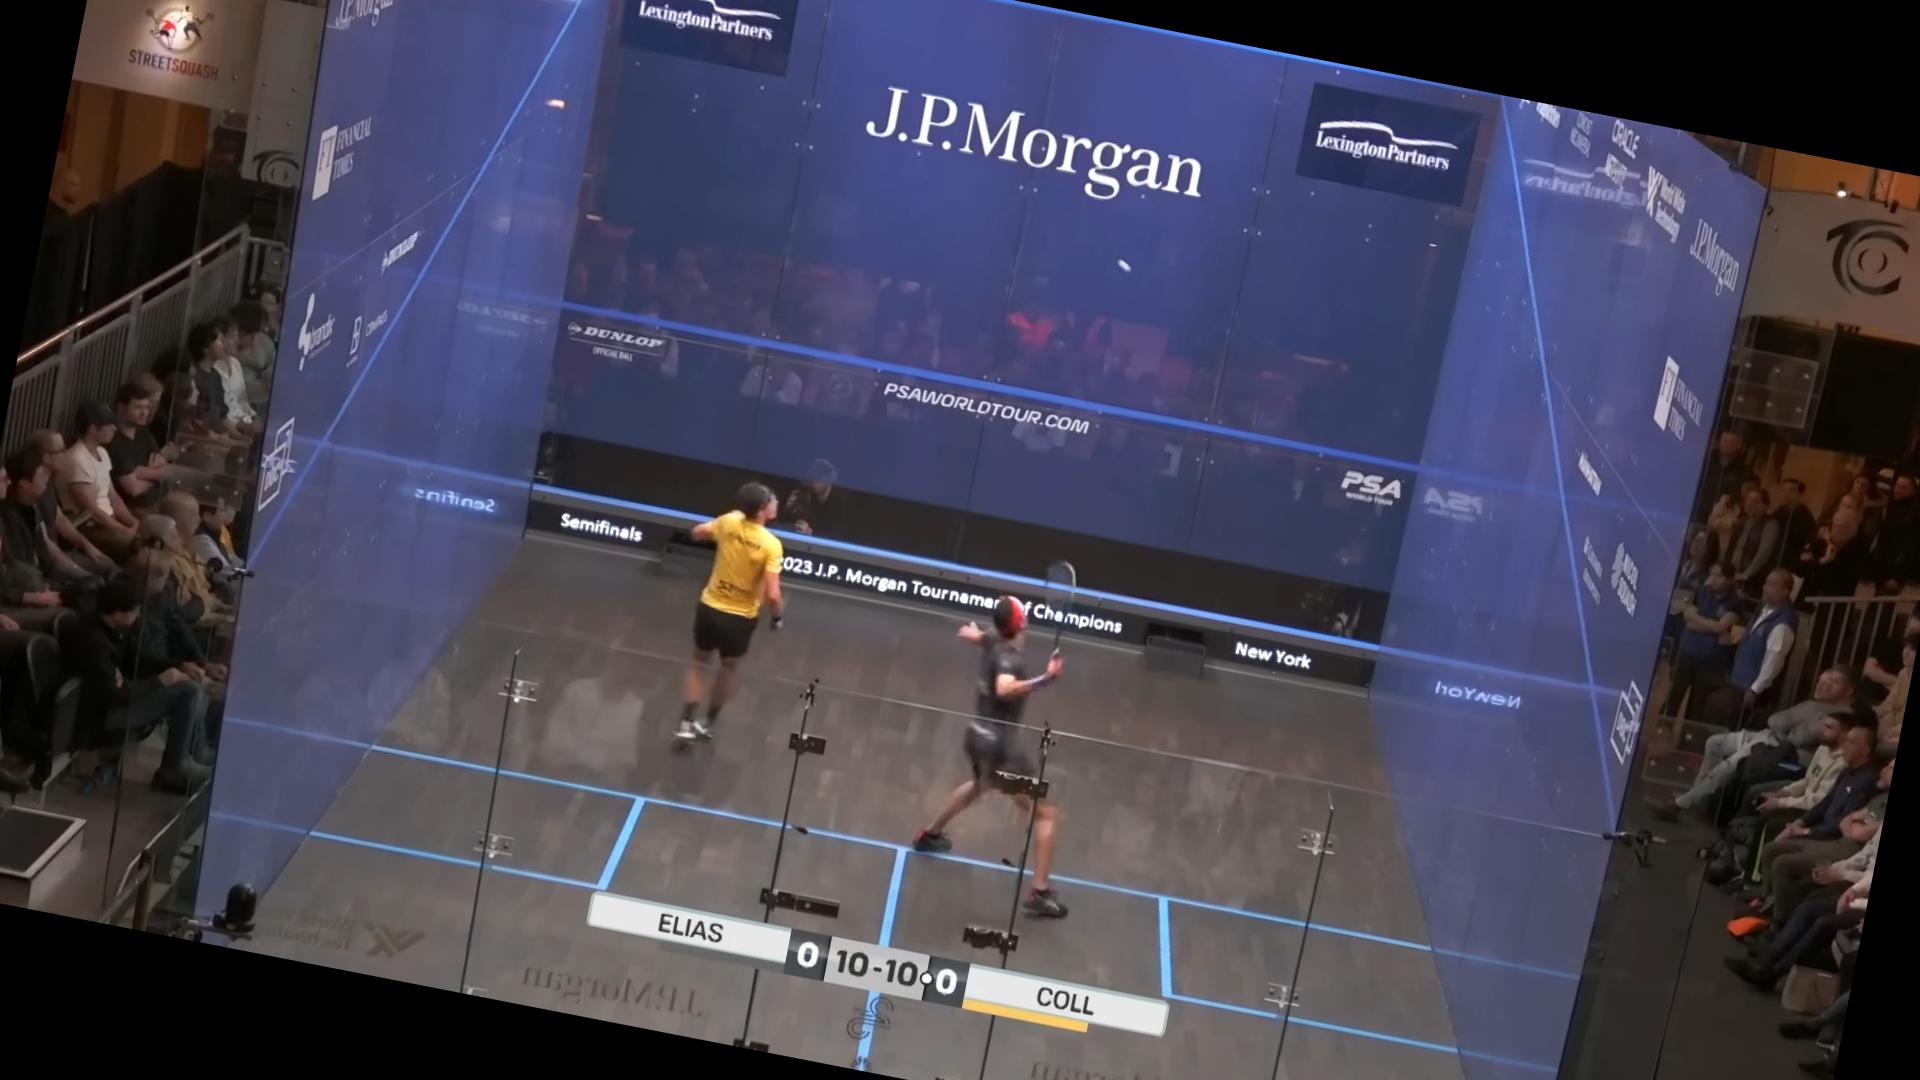Racket: (1027, 550, 1096, 662)
